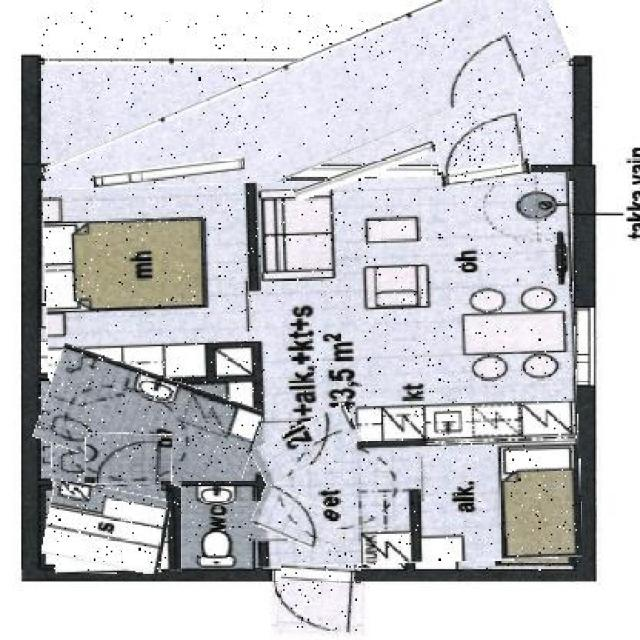window: (436, 112, 530, 185), (252, 414, 360, 475), (278, 565, 360, 632), (294, 152, 438, 188), (252, 490, 338, 548), (86, 434, 172, 484), (92, 162, 245, 183)
zone: (46, 177, 579, 571), (41, 11, 572, 214), (38, 360, 258, 489), (45, 485, 169, 569), (180, 480, 255, 572)
